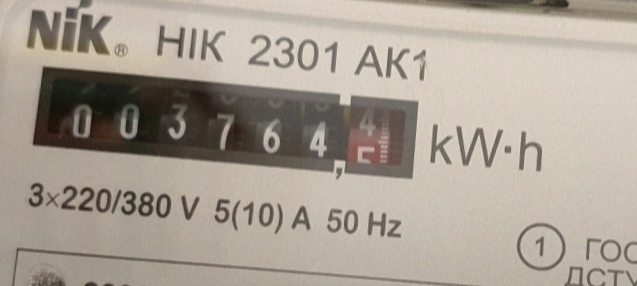0: (67, 100, 94, 139), (115, 100, 140, 141)
3: (163, 100, 189, 141)
4: (306, 118, 329, 159), (355, 104, 379, 138)
5: (352, 142, 376, 166)
6: (259, 115, 282, 155)
7: (210, 109, 236, 152)
screen: (16, 49, 434, 194)
